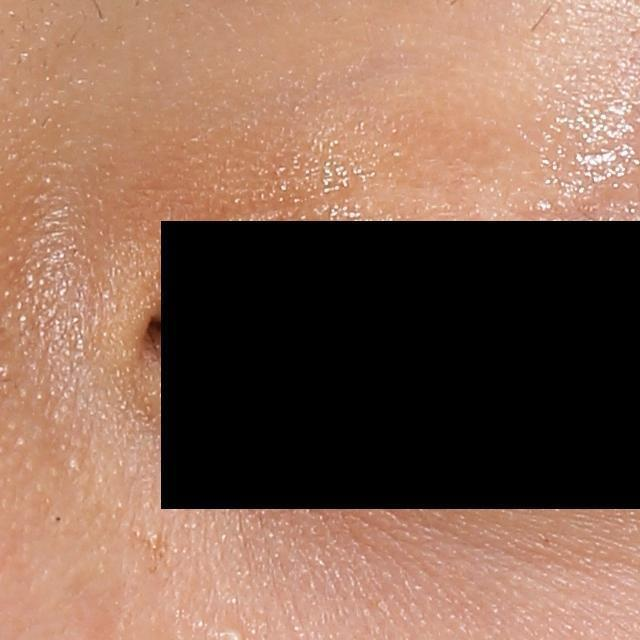comedo: (48, 512, 67, 527)
melasma: (127, 524, 178, 580)
